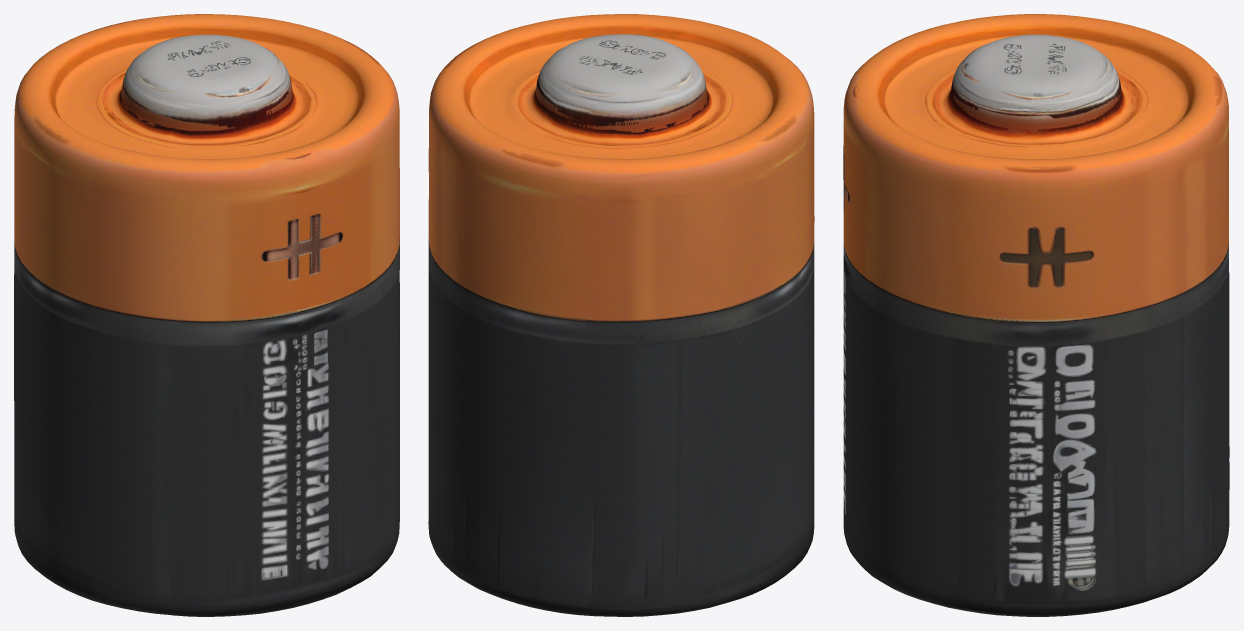
File: Duracell_Battery_0509111328_texture.obj
3 views of the same model, side by side, from view 1: azimuth 30°, elevation 25°; view 2: azimuth 150°, elevation 25°; view 3: azimuth 270°, elevation 25° (orthographic).
Visible parts, largest first — view 1: Duracell_Battery_0509111328_texture; view 2: Duracell_Battery_0509111328_texture; view 3: Duracell_Battery_0509111328_texture.
Boxes of the visible parts, x1,y1,x2,y2 form: Duracell_Battery_0509111328_texture: [14, 14, 399, 616]; Duracell_Battery_0509111328_texture: [428, 14, 814, 616]; Duracell_Battery_0509111328_texture: [843, 14, 1229, 616].
Bounding box in the file's own units: 1.46 × 2 × 1.45.
1 material, 1 textured.
